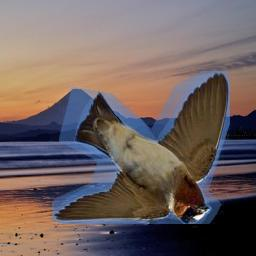Swallow: (52, 72, 230, 225)
